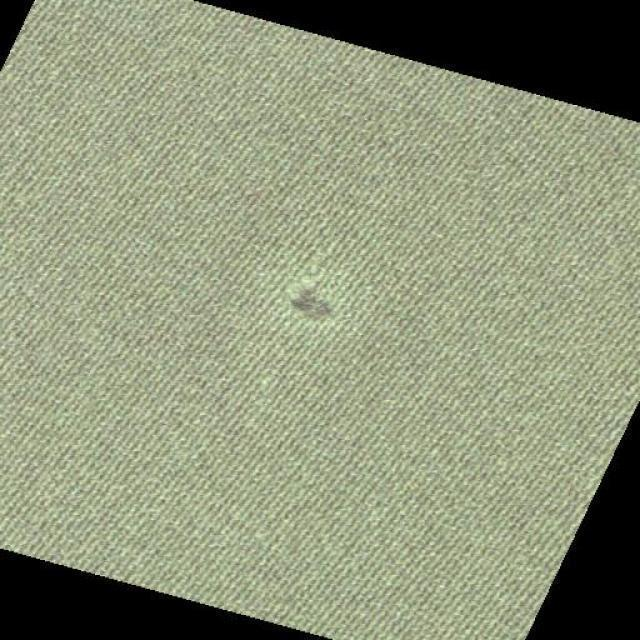other: (242, 262, 374, 358)
